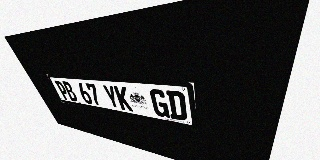6: (75, 82, 94, 105)
7: (85, 83, 103, 106)
B: (61, 81, 79, 102)
D: (166, 90, 187, 121)
G: (149, 89, 170, 118)
K: (113, 86, 133, 112)
P: (54, 80, 71, 101)
Y: (102, 85, 121, 109)
